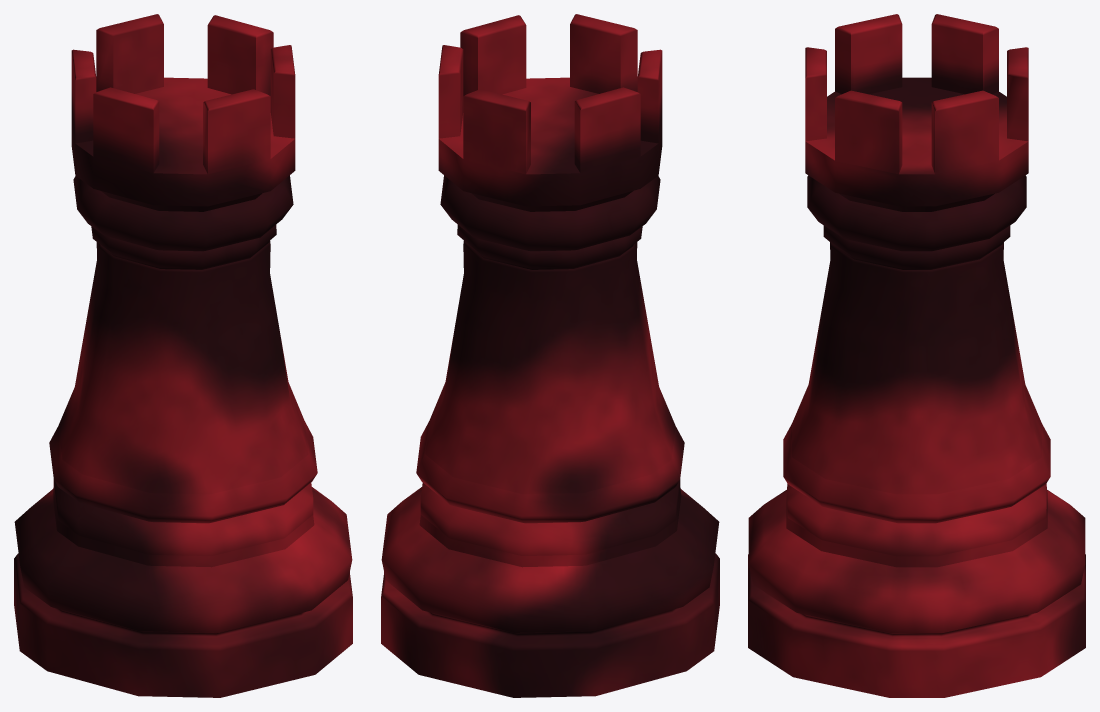
File: item-3-3.glb
The picture shows the model from 3 angles, left to right: view 1: azimuth 30°, elevation 25°; view 2: azimuth 150°, elevation 25°; view 3: azimuth 270°, elevation 25°; orthographic projection.
Parts seen in each view (by area): view 1: BlackTower; view 2: BlackTower; view 3: BlackTower.
Boxes of the visible parts, x1=… form: BlackTower: x1=14, y1=14, x2=352, y2=697; BlackTower: x1=381, y1=14, x2=719, y2=697; BlackTower: x1=748, y1=14, x2=1085, y2=697.
Size of the model in its own units: 0.092 by 0.1651 by 0.0897.
1 material, 1 textured.
